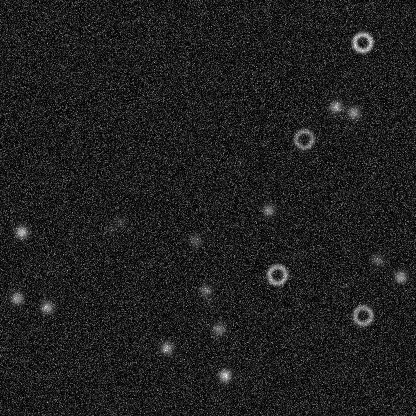Ring: (350, 30, 374, 54), (291, 127, 315, 151), (350, 303, 374, 327), (265, 262, 289, 286)
Spot: (8, 290, 24, 306), (210, 321, 226, 337), (38, 299, 54, 315), (112, 213, 128, 229), (13, 224, 29, 240), (260, 202, 276, 218), (158, 340, 174, 356), (392, 268, 408, 284), (327, 98, 343, 114), (187, 232, 203, 248), (369, 251, 385, 267), (103, 220, 119, 236), (197, 282, 213, 298), (345, 104, 361, 120), (216, 367, 232, 383)
